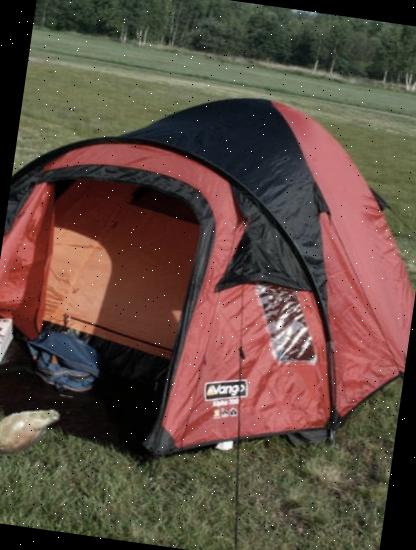Cactus: (0, 386, 69, 471)
